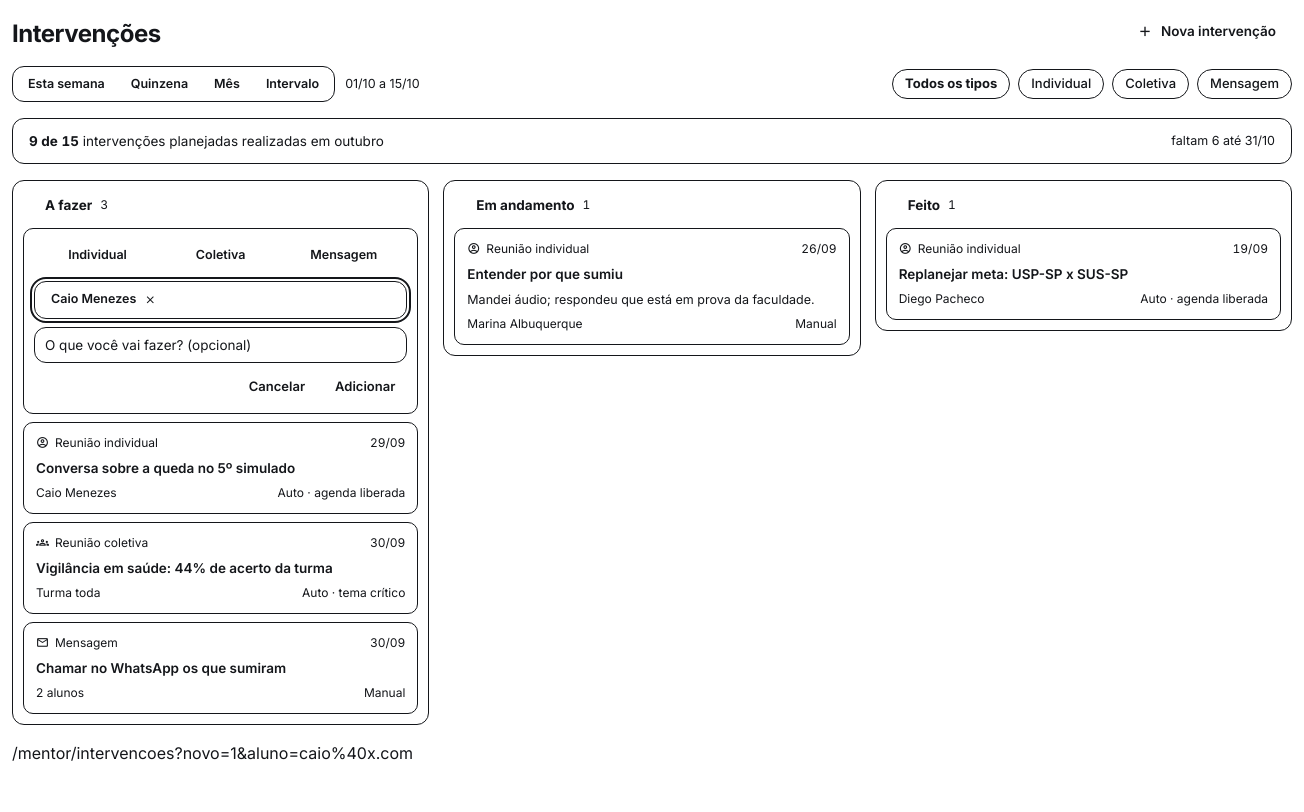
Test case: Intervenções · nova intervenção › deep link ?novo=1&aluno= abre o criador com o aluno e limpa a URL ao criar
This screenshot has width=1304, height=812.
Expected: the form named "Nova intervenção" is shown, x1=23 y1=228 x2=418 y2=414
Expected: the button named "Remover Caio Menezes" is shown, x1=140 y1=290 x2=160 y2=310
Click the button "Adicionar" at coordinates (365, 386), box x1=323 y1=370 x2=407 y2=402
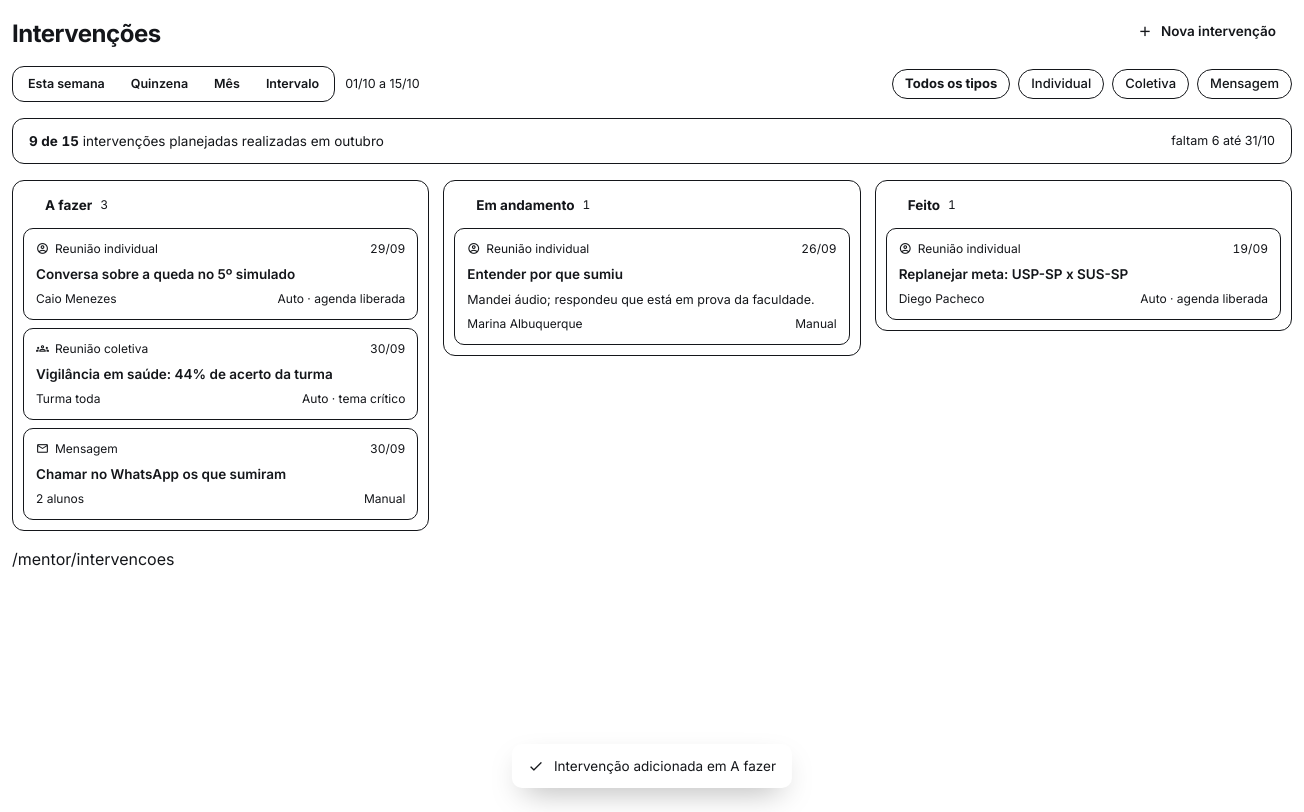
Now the text with test id "url" reads "/mentor/intervencoes", box x1=12 y1=549 x2=174 y2=569
